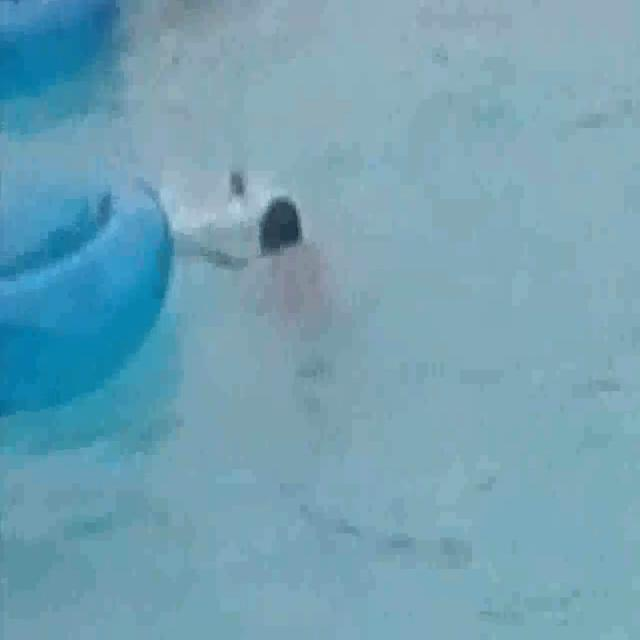drowning: (193, 135, 353, 373)
